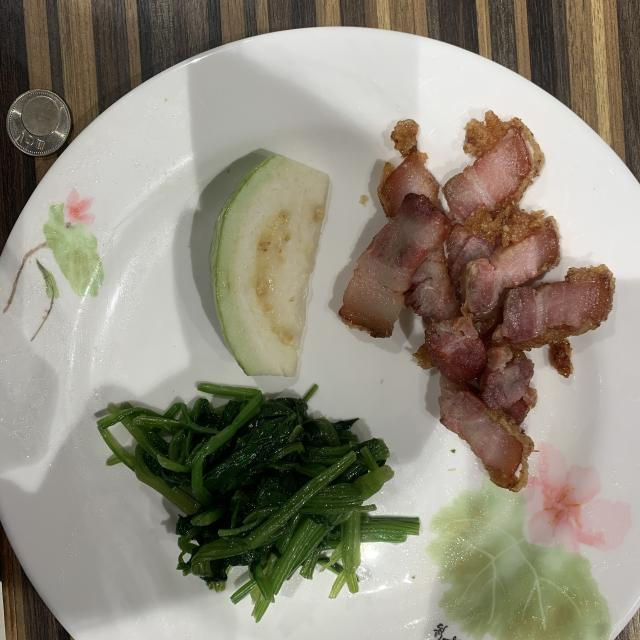coin: (6, 90, 70, 156)
guava -sliced-: (209, 155, 330, 376)
mustard greens: (96, 384, 419, 621)
red grilled pork: (339, 111, 615, 491)
